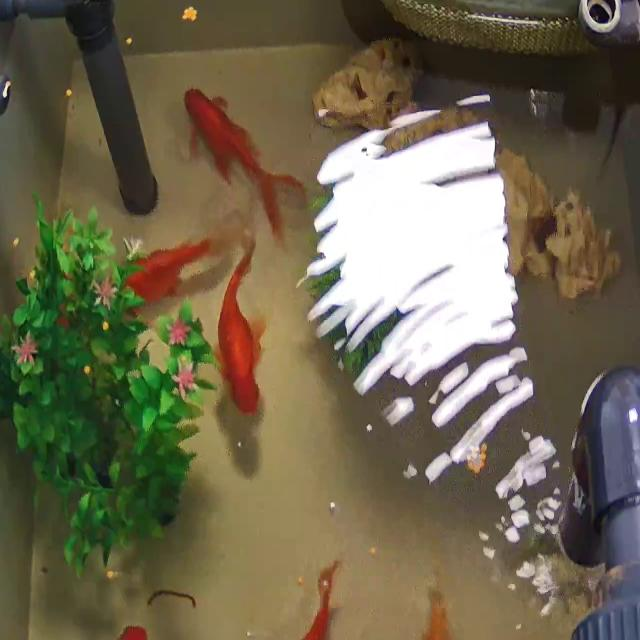fish: (184, 90, 310, 243), (216, 232, 266, 416), (240, 555, 336, 640), (119, 233, 223, 305), (413, 587, 463, 640)
